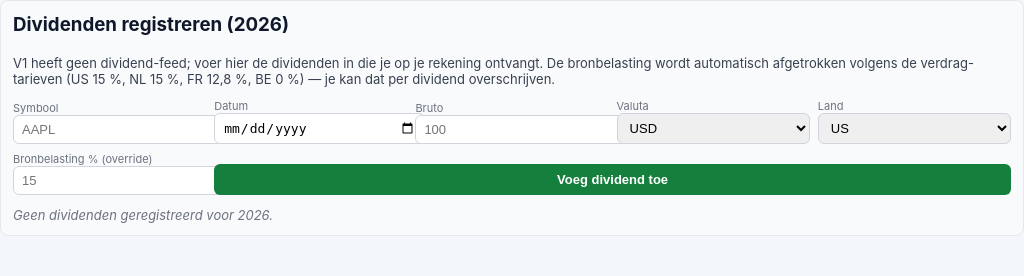
it: DividendenManager › shows error when required fields missing
Expected: the element with test id "dividenden-form" is shown, [13,99,1011,195]
Click the button with test id "dividend-add-button".
click(613, 179)  # box [214,164,1011,195]
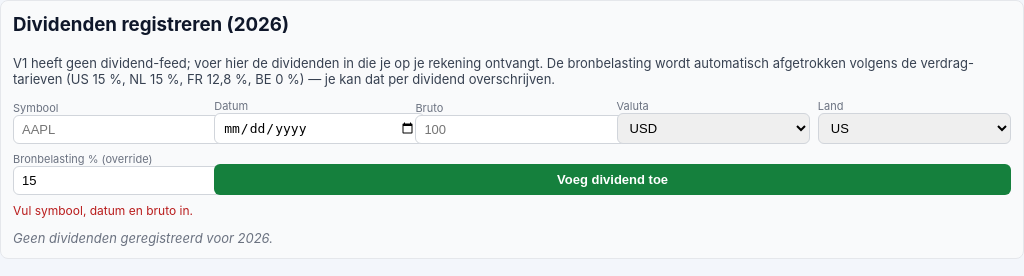
Expected: the text with test id "dividenden-error" shows "Vul symbool", [13,203,193,218]
